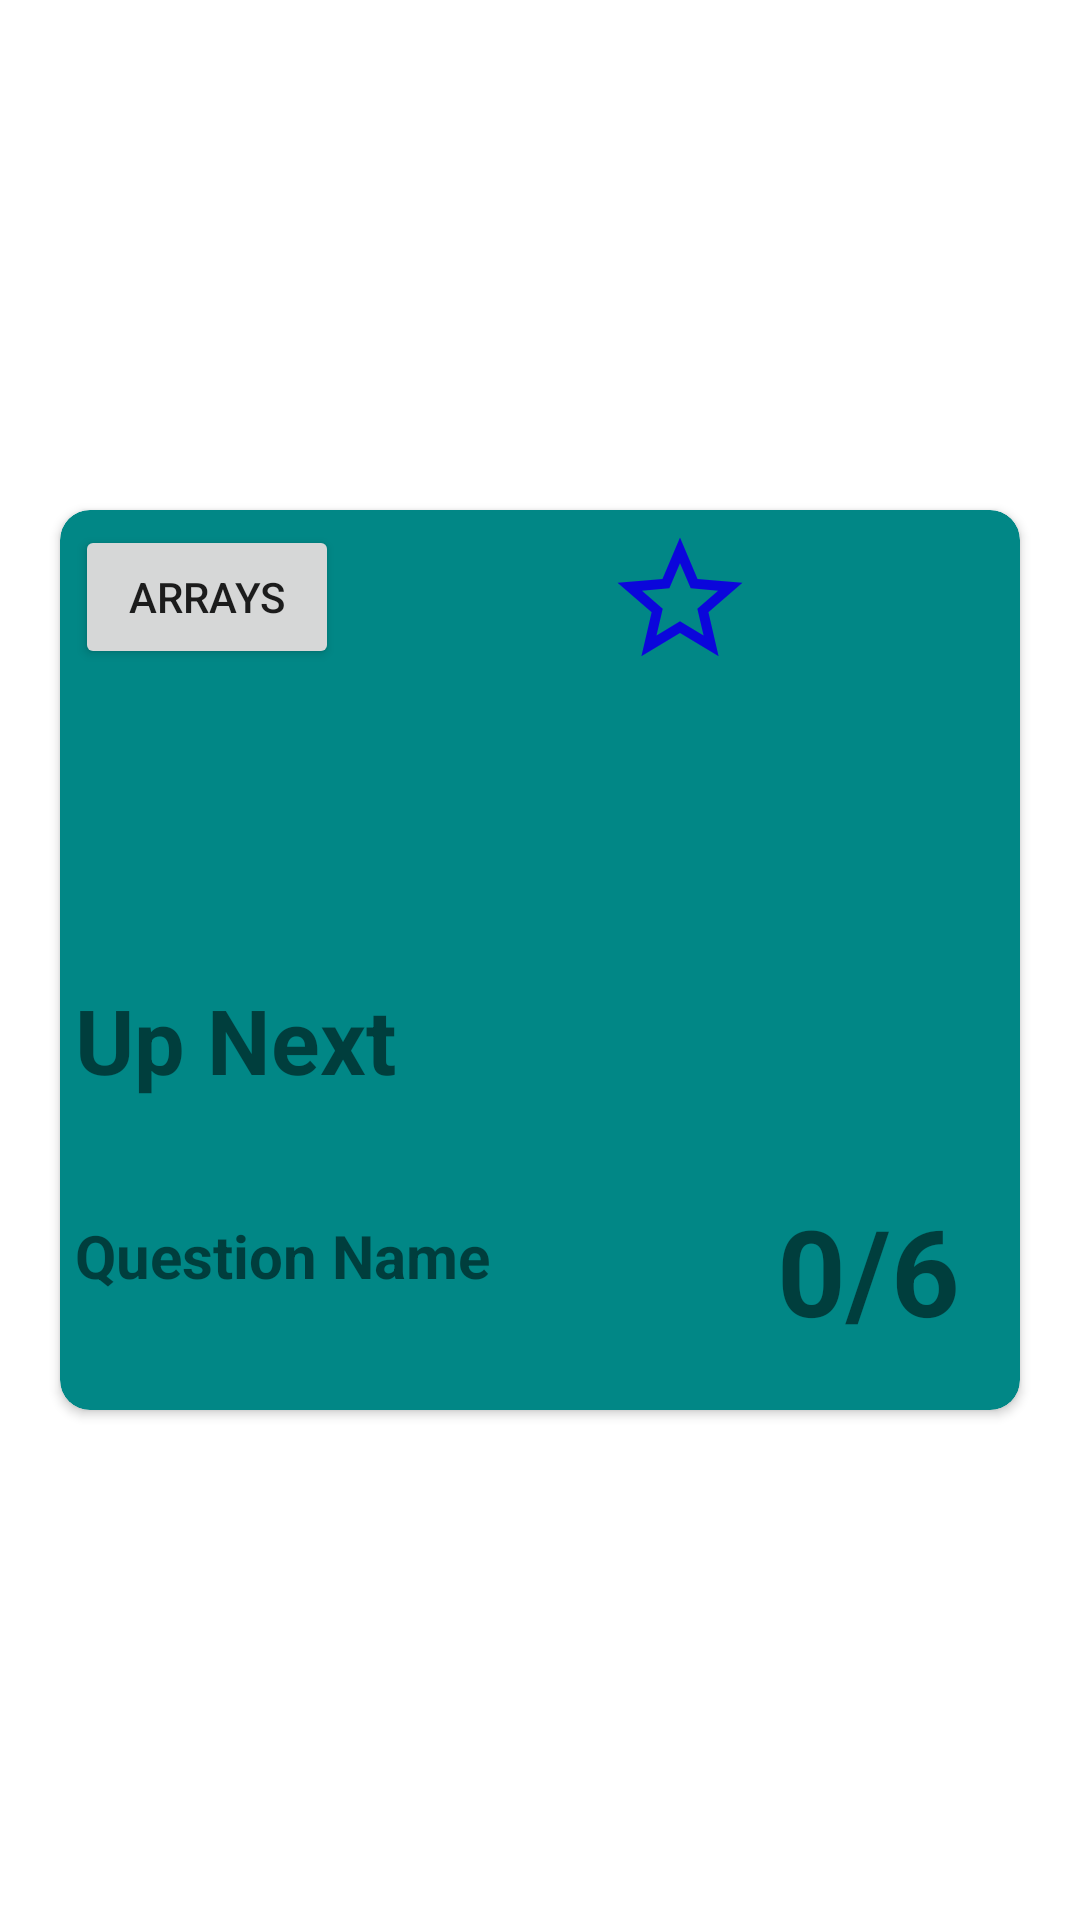

Icon bounding boxes for this 1080x1920 phone screenshot, format (x1, y1, x2, y2):
bookmark: (618, 538, 742, 656)
